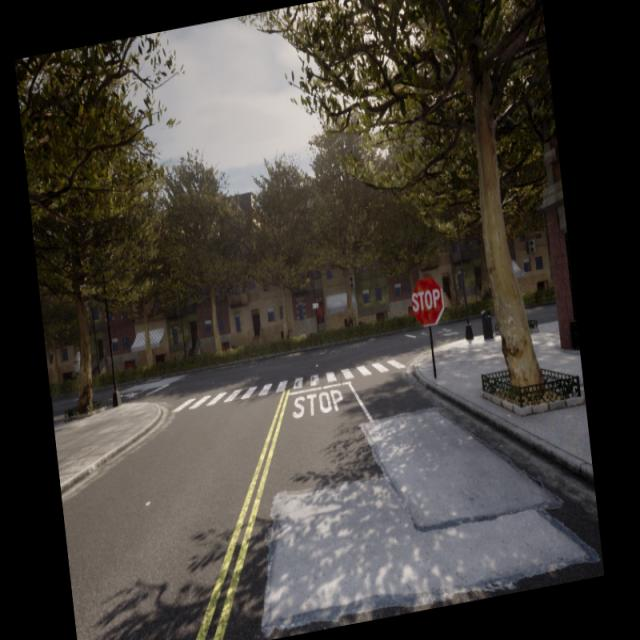stop sign: (408, 273, 446, 328)
